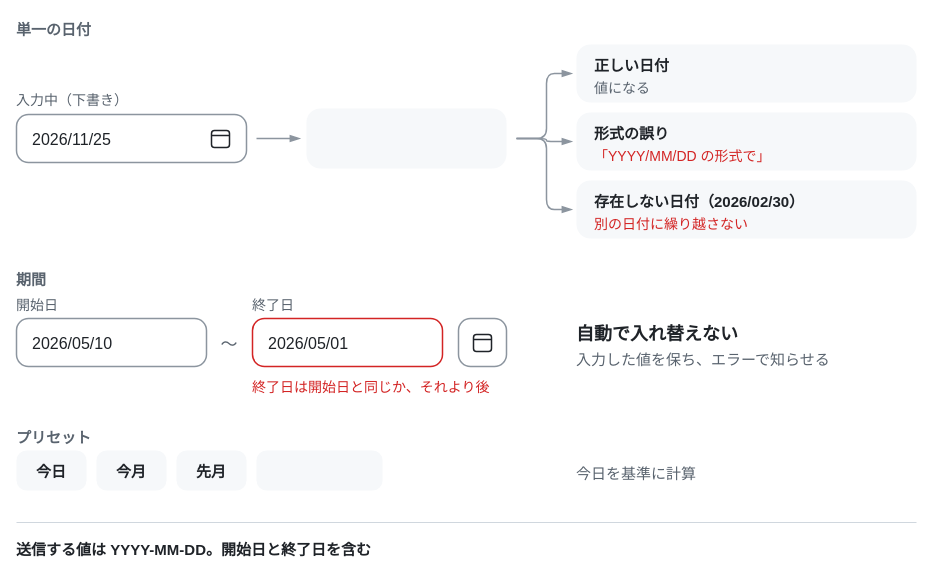
Image size: 933x574. Some labels were removed from this diagram. The centre of each missing label's shape, as x and y in pixels:
"フォーカスが外れる Enter で確定" goes at pixel 406 138.
"過去 7 日間" goes at pixel 319 470.
